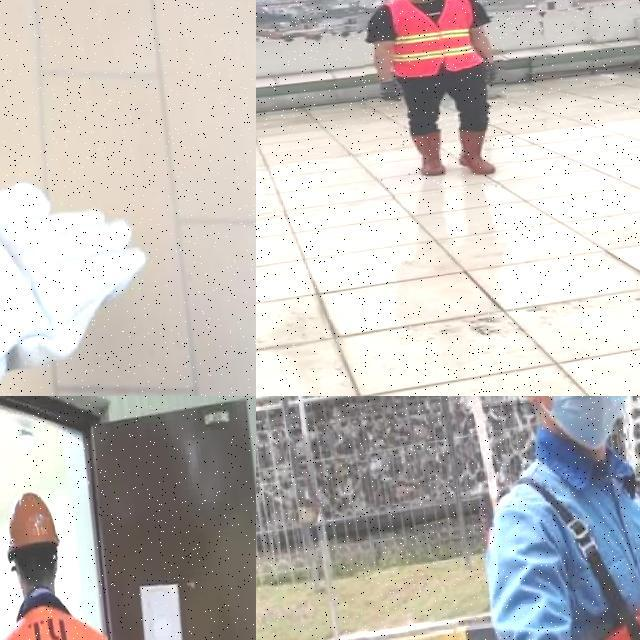boots: (454, 125, 498, 178), (408, 129, 452, 180)
helmet: (1, 487, 61, 557)
vest: (480, 437, 640, 640), (381, 0, 487, 79)
